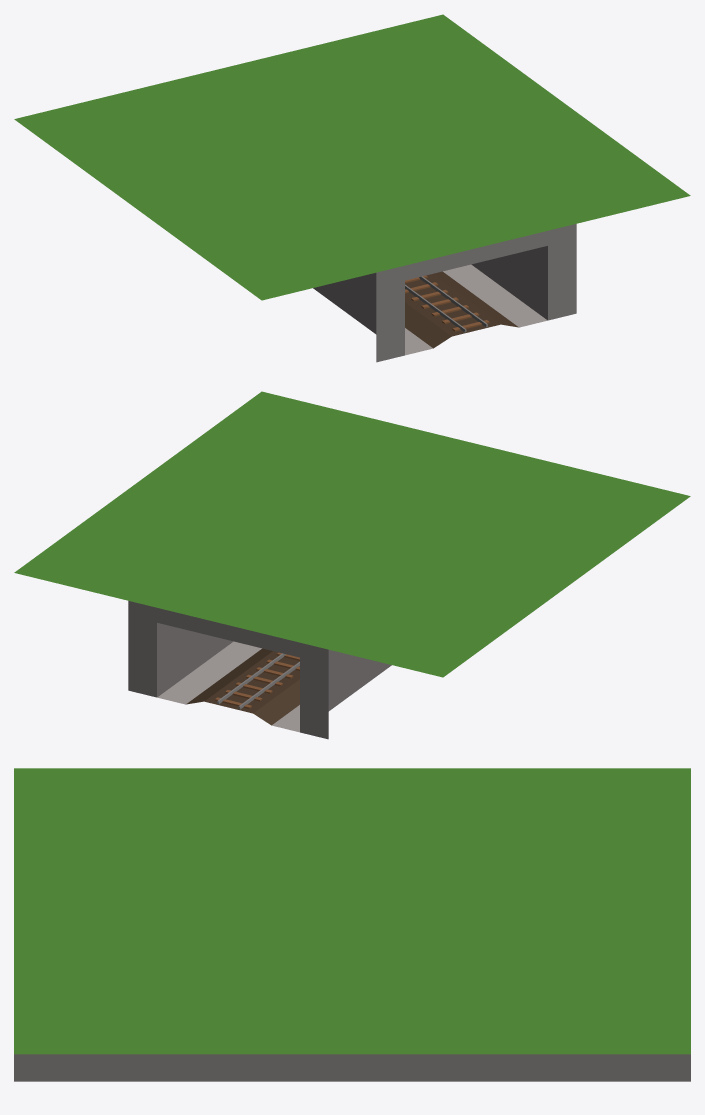
The model's file is tiles-nb_tile-rail-tunnel-nb.fbx.
The picture shows the model from 3 angles, top to bottom: view 1: azimuth 30°, elevation 25°; view 2: azimuth 150°, elevation 25°; view 3: azimuth 270°, elevation 25°; orthographic projection. The views are drawn at different scales.
Visible parts, largest first — view 1: tiles_nb_tile_rail_tunnel_nb; view 2: tiles_nb_tile_rail_tunnel_nb; view 3: tiles_nb_tile_rail_tunnel_nb.
Part boxes in pixels (left/top/right/bottom): tiles_nb_tile_rail_tunnel_nb: left=14, top=14, right=690, bottom=362; tiles_nb_tile_rail_tunnel_nb: left=14, top=391, right=690, bottom=739; tiles_nb_tile_rail_tunnel_nb: left=14, top=768, right=690, bottom=1081.
Size of the model in its own units: 200 by 40 by 200.
